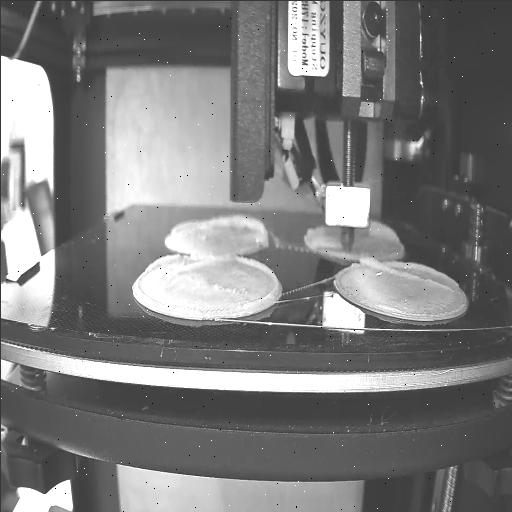over_extrusion: (357, 254, 451, 292), (232, 254, 278, 308), (142, 254, 230, 276), (209, 213, 268, 243), (370, 218, 398, 241), (170, 218, 202, 233)
